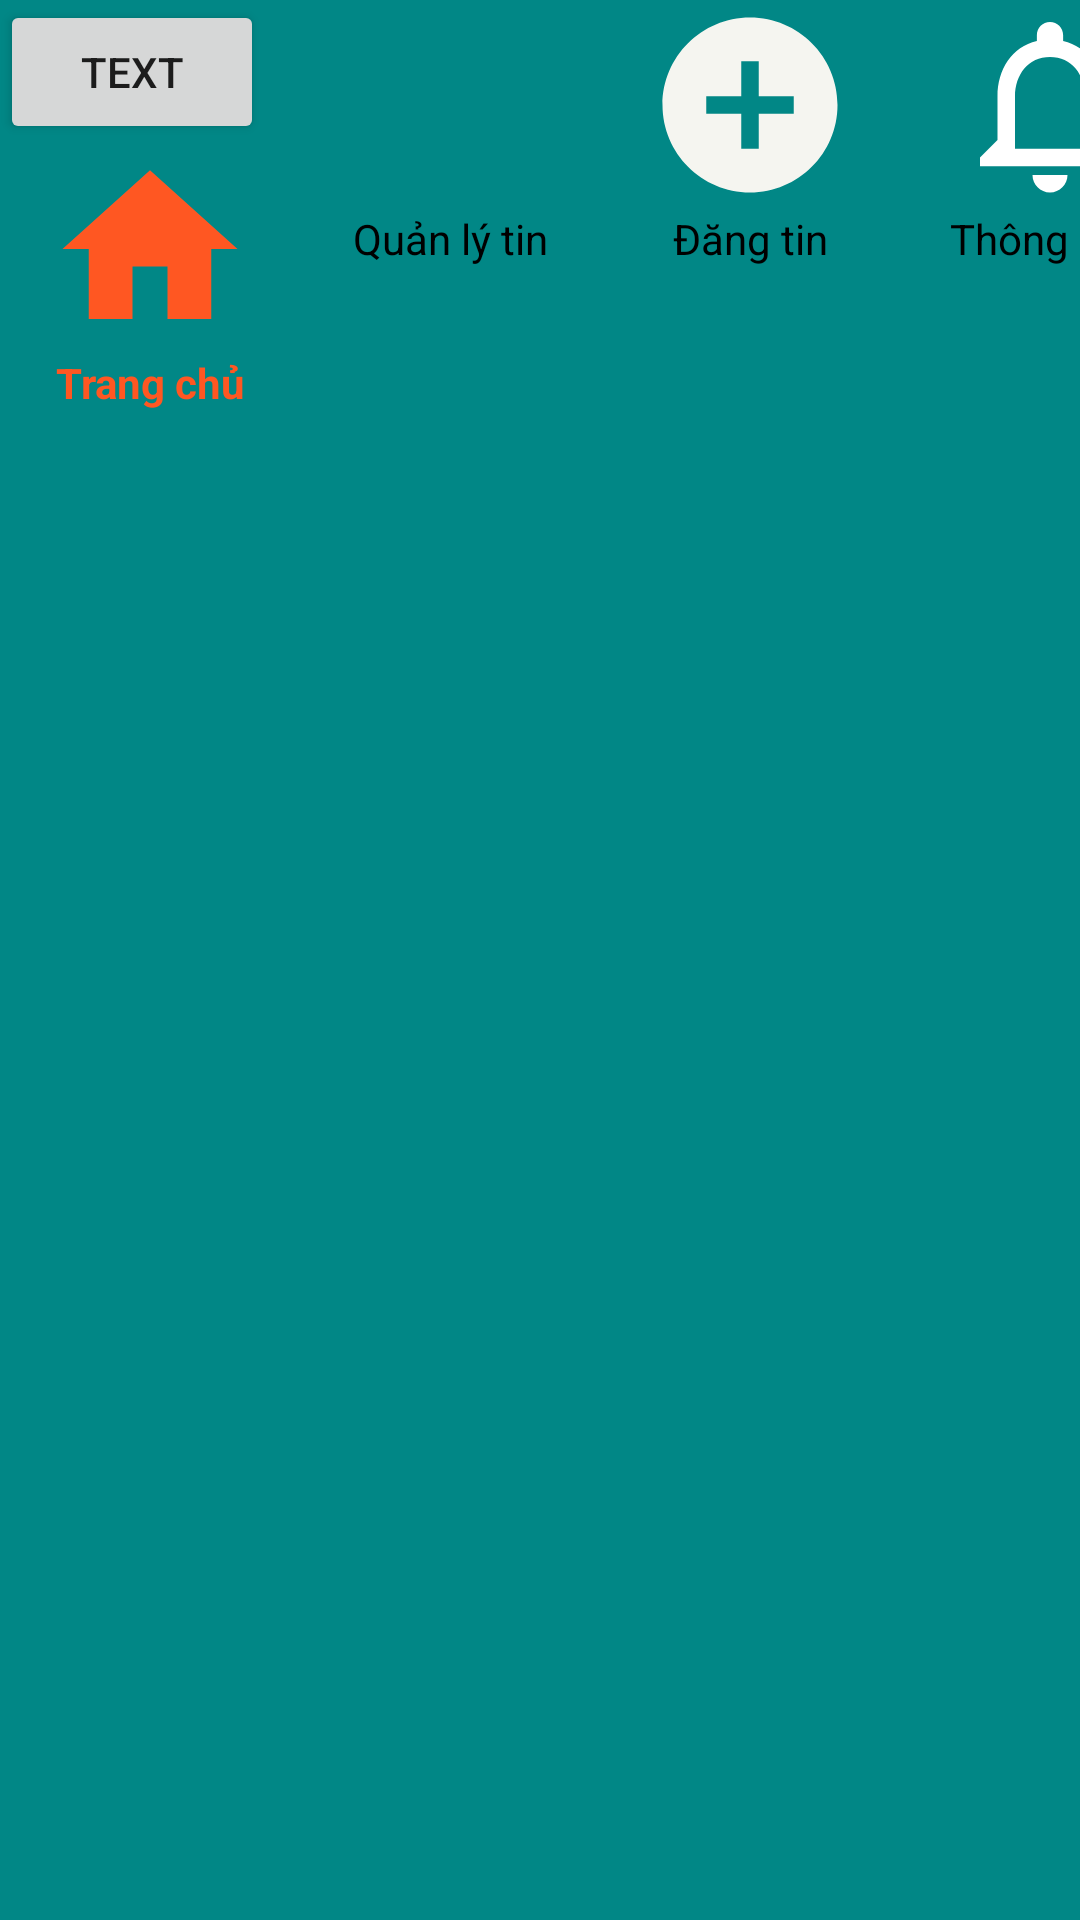

Icons on this 1080px x 1920px Android screen, each with the point to tap as [x,y]:
add: [750,105]
